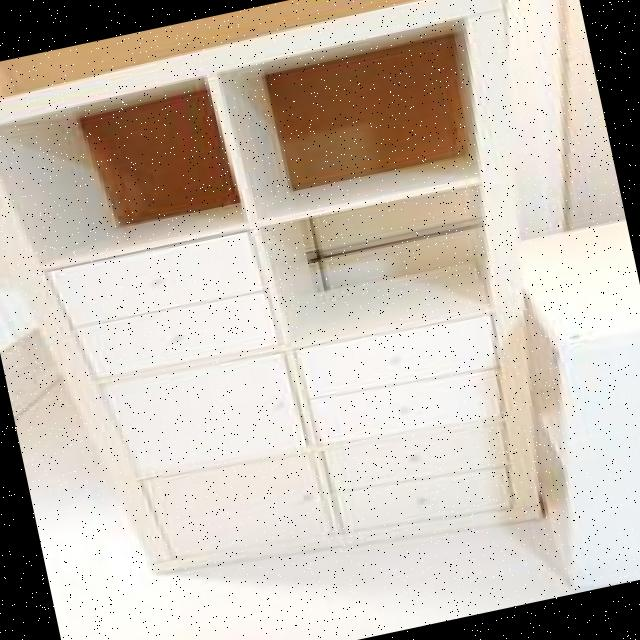Shelf: (0, 0, 616, 611)
